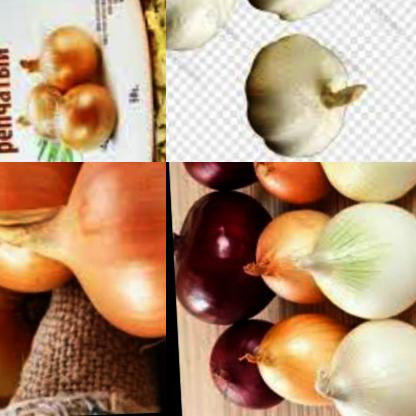garlic: (239, 30, 363, 160)
onion: (0, 162, 166, 348), (292, 201, 416, 324), (167, 192, 277, 325), (237, 314, 347, 412), (310, 317, 416, 416), (238, 210, 339, 312), (0, 162, 71, 299), (0, 227, 54, 399), (200, 321, 285, 412), (43, 83, 123, 162), (18, 26, 101, 98), (306, 162, 416, 207), (8, 80, 68, 144), (244, 162, 327, 208), (172, 162, 267, 199)
